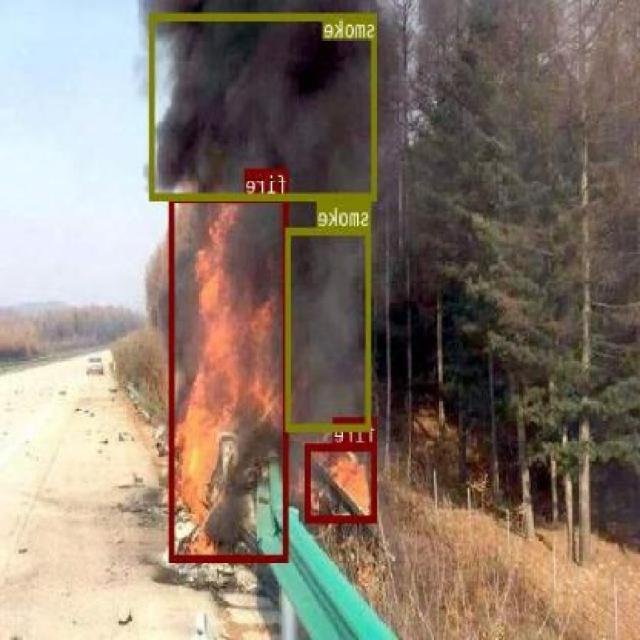Fire: (170, 193, 290, 561), (306, 442, 379, 521)
Smoke: (150, 12, 378, 198), (286, 226, 372, 431)
